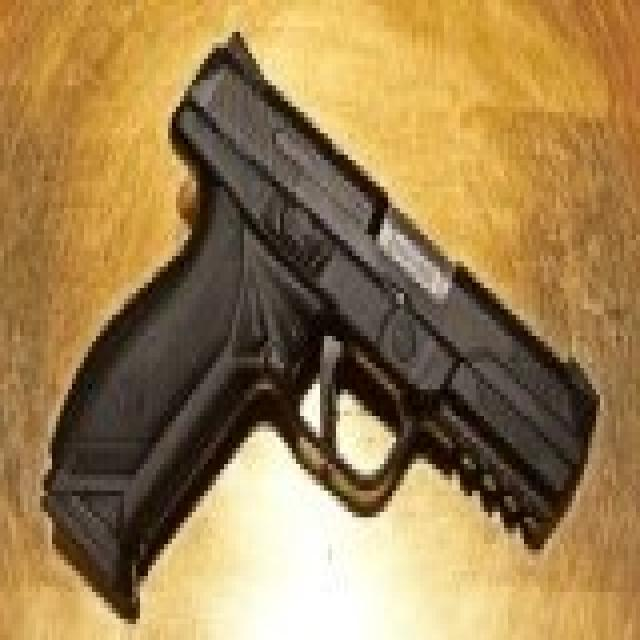Gun: (25, 34, 602, 588)
